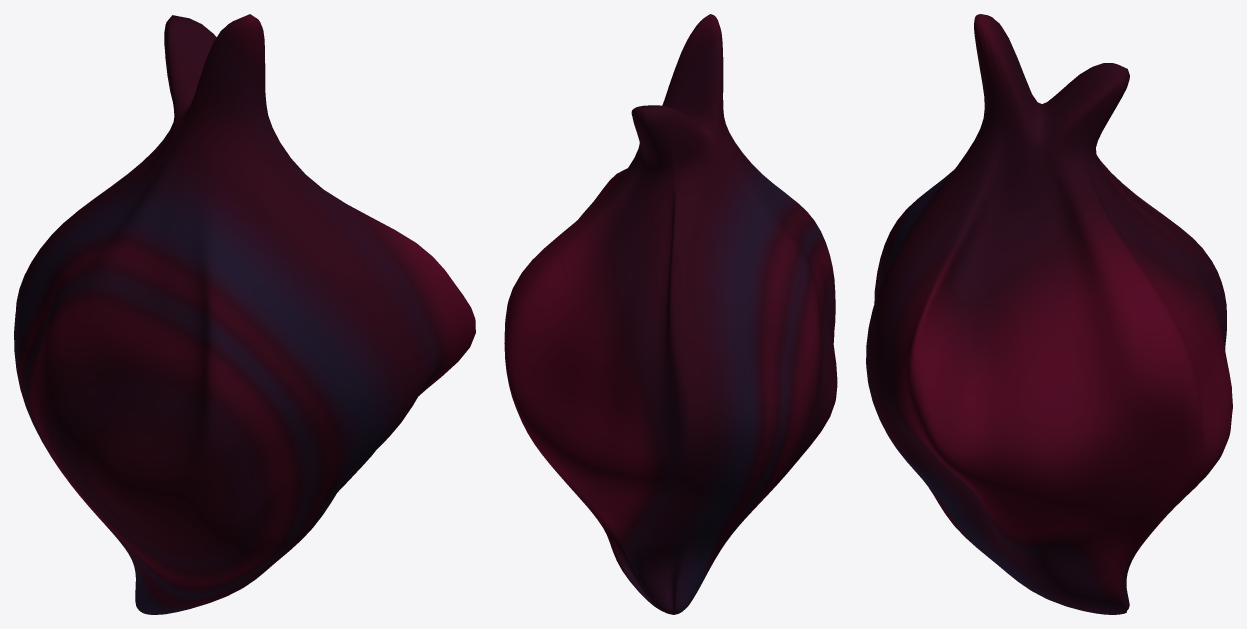
File: heart.fbx
The picture shows the model from 3 angles, left to right: view 1: azimuth 30°, elevation 25°; view 2: azimuth 150°, elevation 25°; view 3: azimuth 270°, elevation 25°; orthographic projection. The views are drawn at different scales.
Visible parts, largest first — view 1: Cylinder; view 2: Cylinder; view 3: Cylinder.
Boxes of the visible parts, x1,y1,x2,y2 form: Cylinder: (14, 14, 475, 614); Cylinder: (504, 14, 837, 614); Cylinder: (866, 14, 1232, 614).
Bounding box in the file's own units: 250 × 423 × 230.
Materials: 1 (1 with a texture image).
